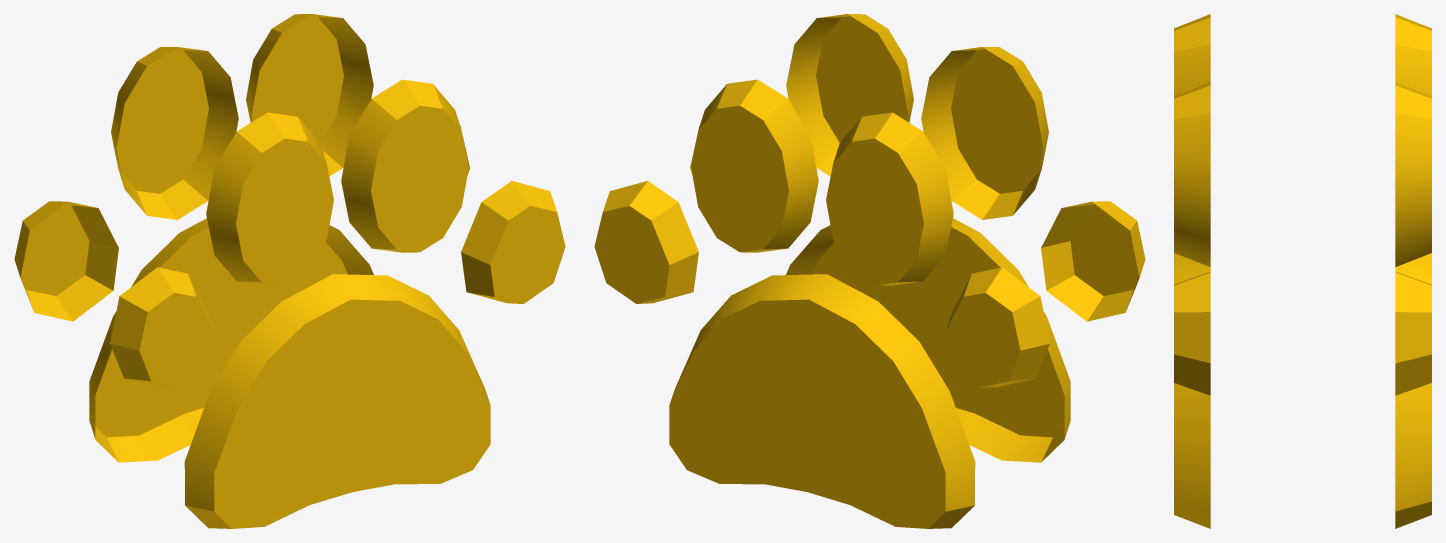
The model's file is Paw.fbx.
3 renders of one model, left to right at view 1: azimuth 30°, elevation 25°; view 2: azimuth 150°, elevation 25°; view 3: azimuth 270°, elevation 25°, orthographic. The views are drawn at different scales.
Visible parts, largest first — view 1: Paw; view 2: Paw; view 3: Paw.
Boxes of the visible parts, x1,y1,x2,y2 form: Paw: (14,14,565,528); Paw: (594,14,1145,528); Paw: (1174,14,1431,528).
Size of the model in its own units: 95 by 82.55 by 45.74.
